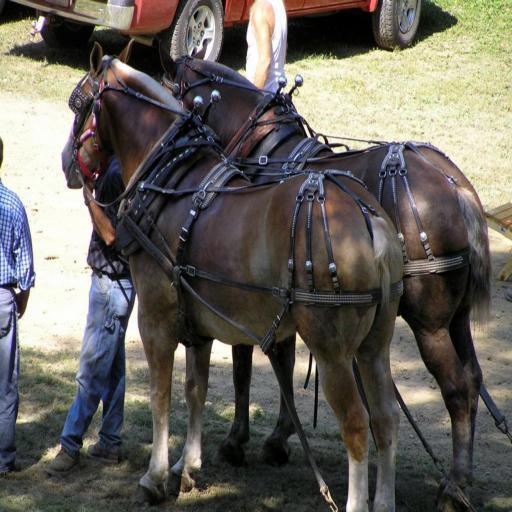horse: (60, 39, 404, 511), (156, 42, 492, 512)
